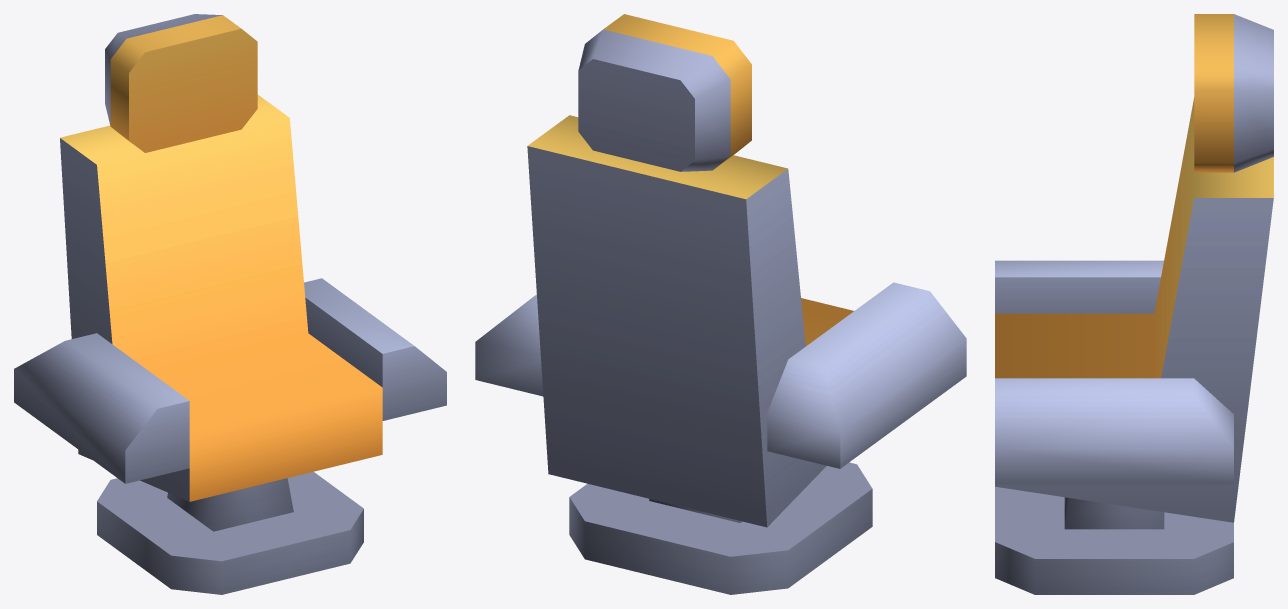
Rendered from chair-armrest-headrest.glb.
3 views of the same model, side by side, from view 1: azimuth 30°, elevation 25°; view 2: azimuth 150°, elevation 25°; view 3: azimuth 270°, elevation 25° (orthographic). The views are drawn at different scales.
Parts seen in each view (by area): view 1: chair-armrest-headrest; view 2: chair-armrest-headrest; view 3: chair-armrest-headrest.
Boxes of the visible parts, box(x1,y1,x2,y2) form: chair-armrest-headrest: box(14, 14, 446, 594); chair-armrest-headrest: box(475, 14, 966, 594); chair-armrest-headrest: box(995, 14, 1273, 594).
Size of the model in its own units: 0.5 by 0.7 by 0.3499.
1 material, 1 textured.
